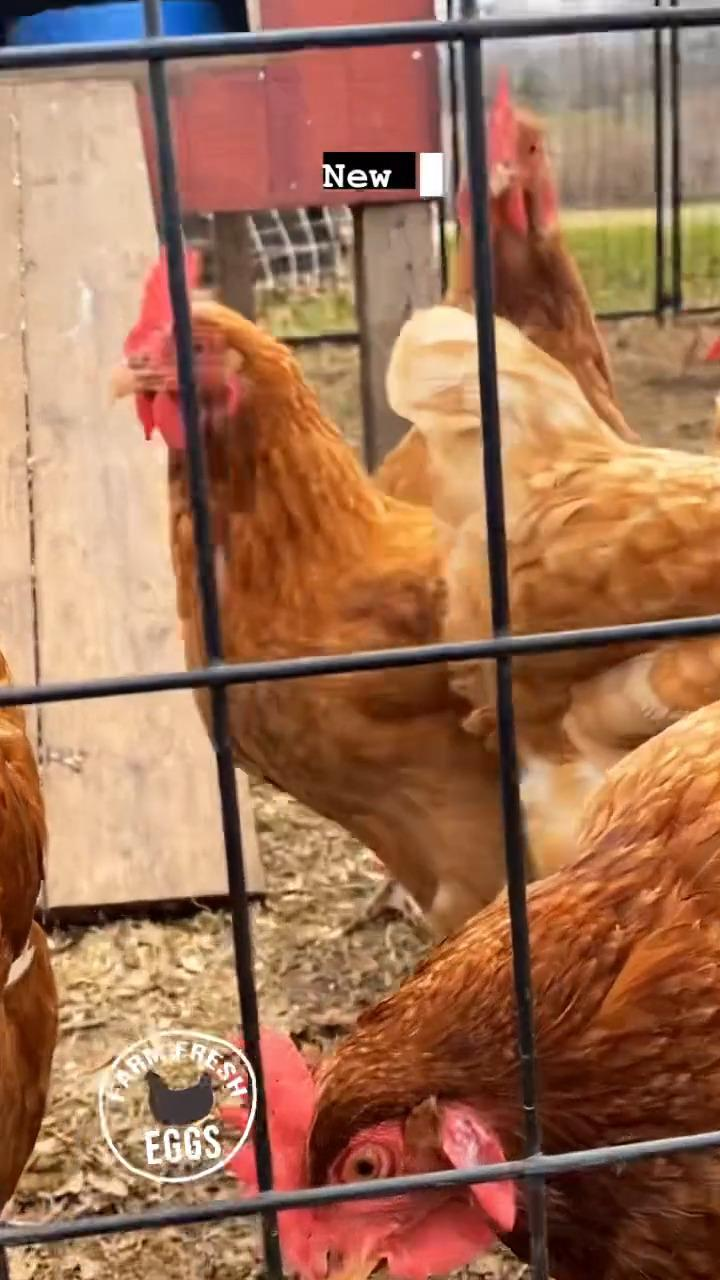rooster: (207, 698, 719, 1279), (109, 240, 517, 936), (387, 302, 719, 878), (443, 72, 634, 450), (0, 640, 65, 1279)
